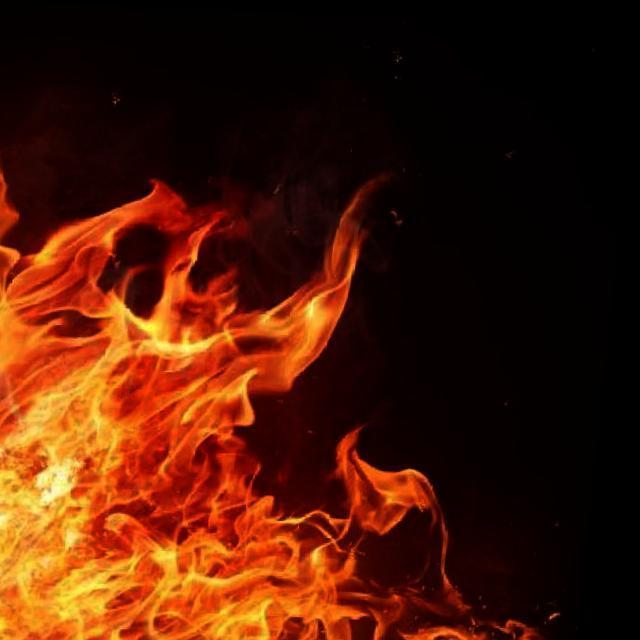Fire: (0, 0, 640, 640)
Smoke: (0, 43, 485, 640)
